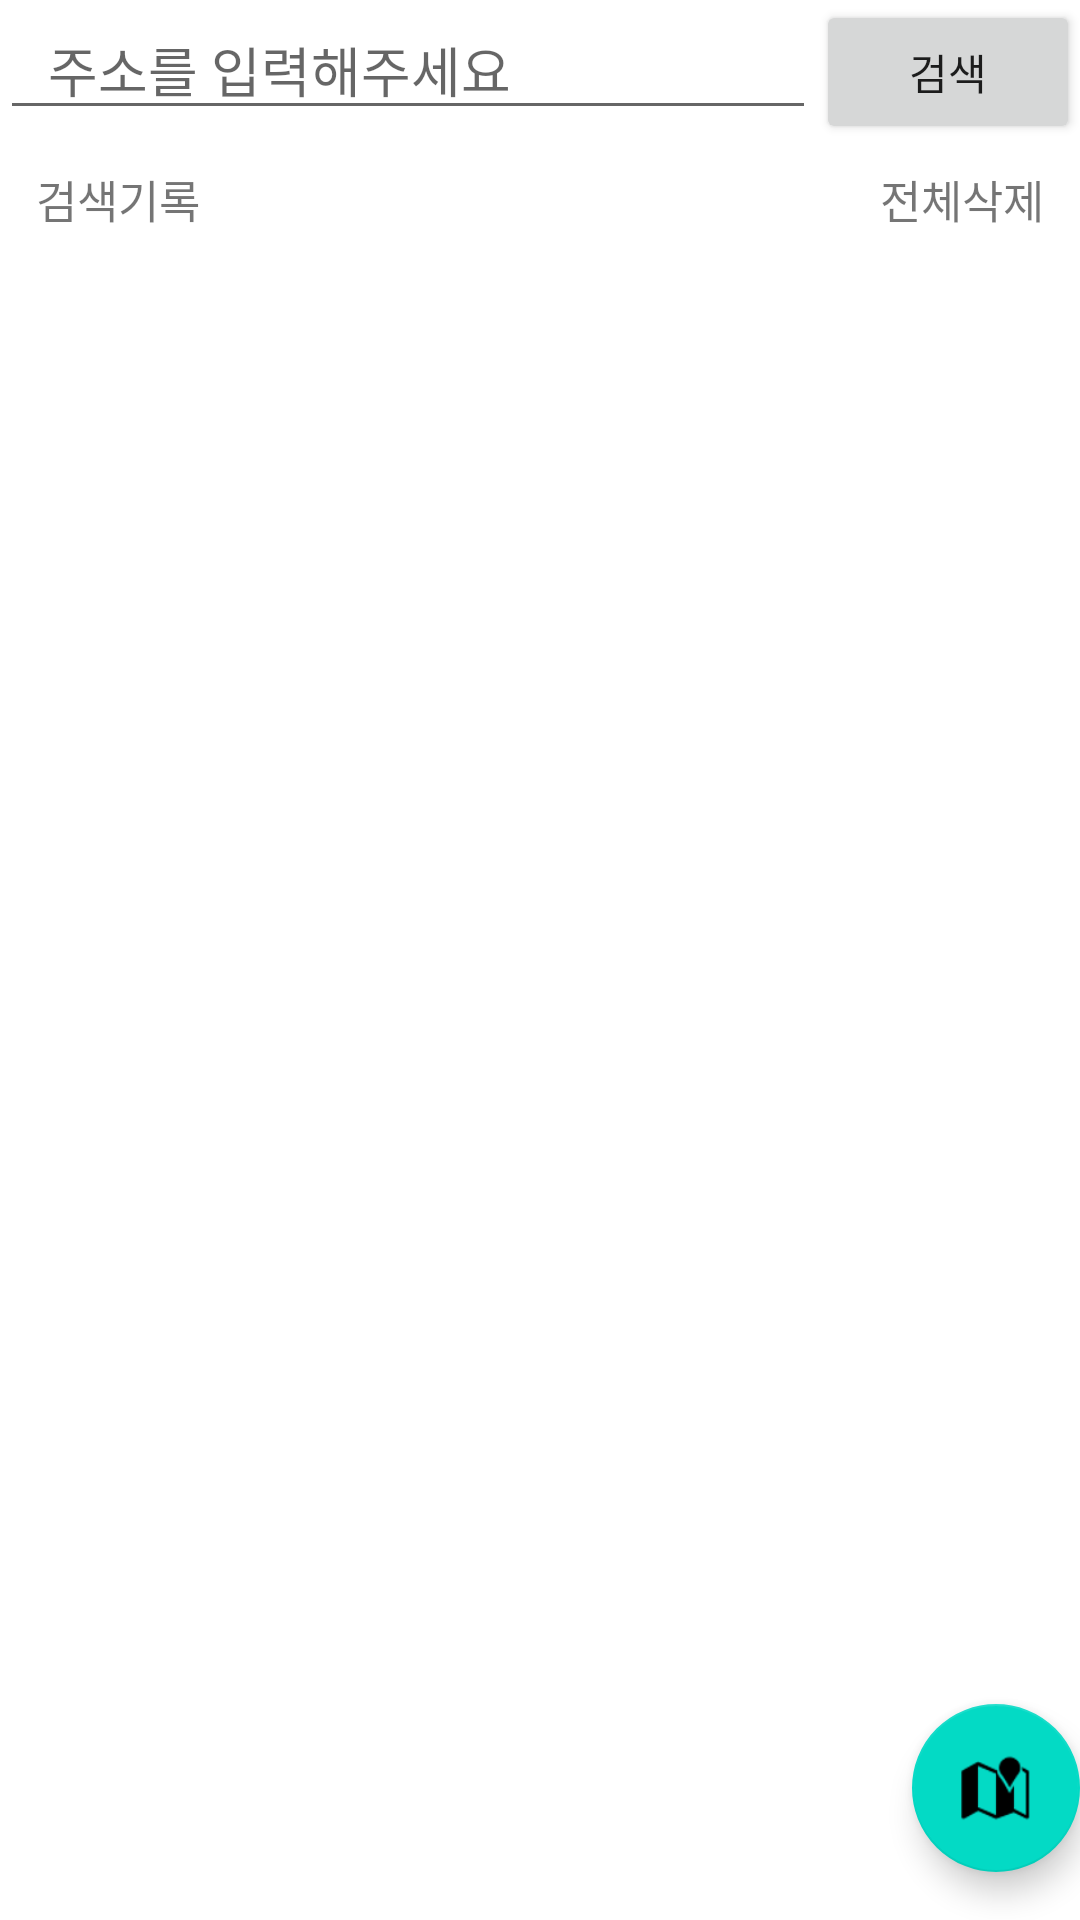

Named icons in this screenshot (1080×1920) and their centers, (x,y):
map: (996,1788)
